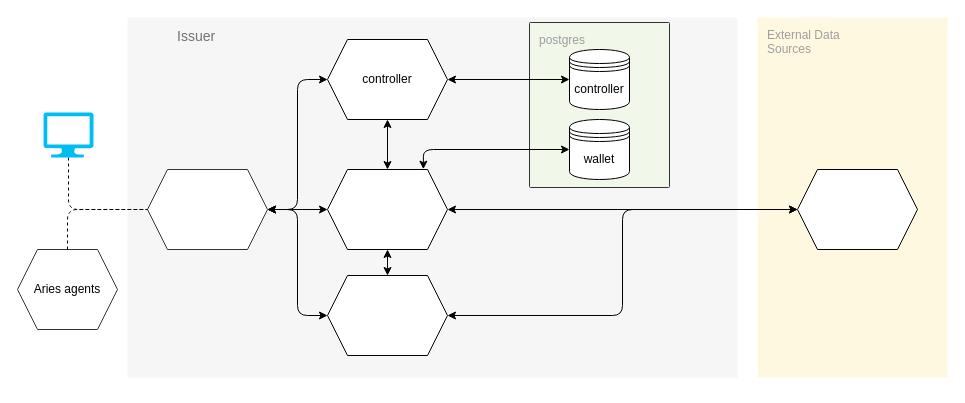
The diagram is 965 pixels wide and 403 high, and some of its shapes have lost their labels. Each missing label, with the box of its shape:
aries- cloudagent- python: (326, 168, 448, 250)
BCoverin Test Ledger: (796, 168, 918, 250)
nginx: (146, 168, 268, 250)
tails-server: (326, 274, 448, 356)
